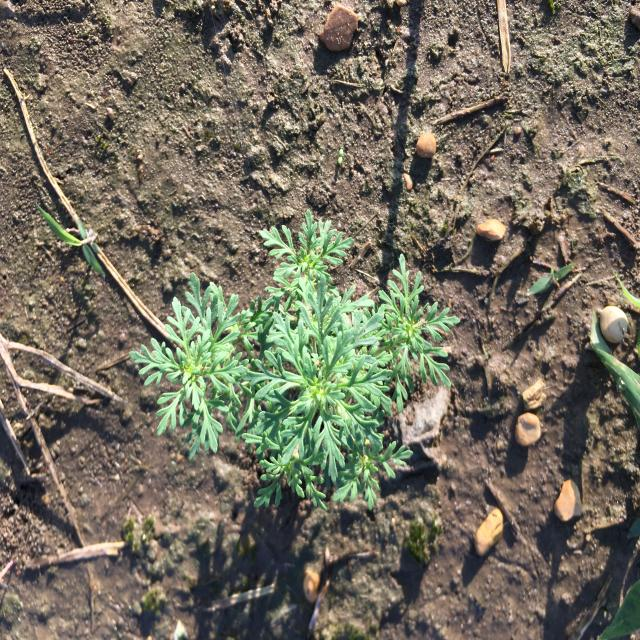Ragweed: (127, 207, 462, 516)
